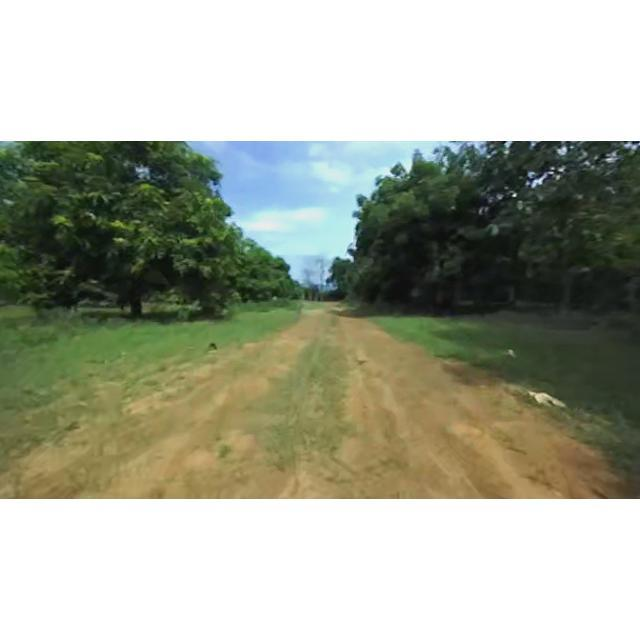direk: (0, 142, 252, 320), (337, 150, 523, 318), (470, 142, 638, 326), (188, 222, 296, 310), (327, 252, 358, 302)
